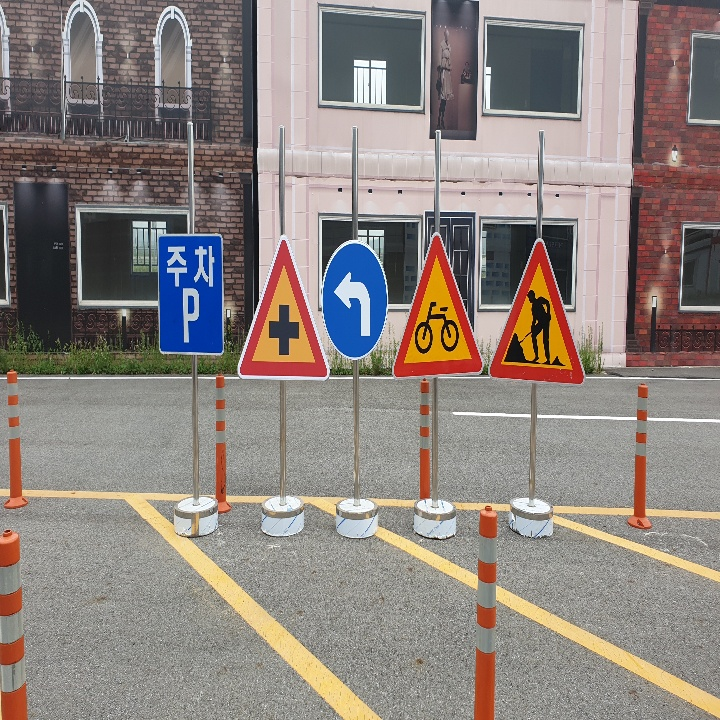bicycle: (396, 233, 482, 378)
const: (504, 279, 570, 367)
inter: (265, 301, 304, 361)
left: (329, 268, 376, 341)
parking: (174, 283, 207, 347)
